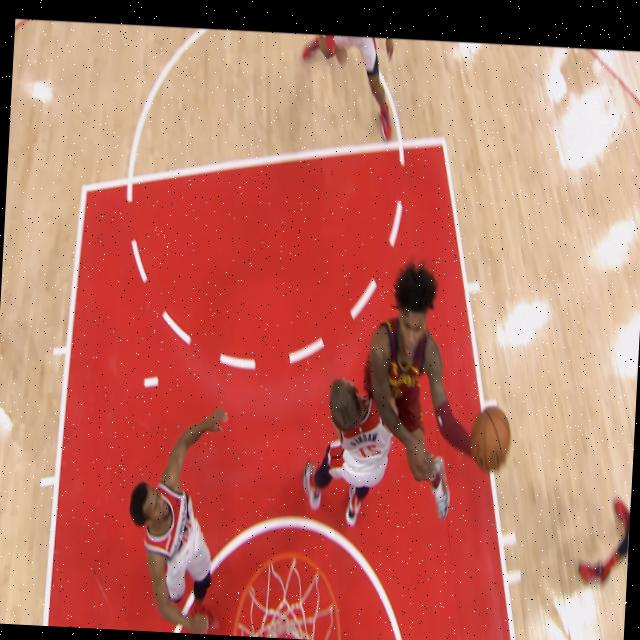foul: (301, 222, 514, 548)
